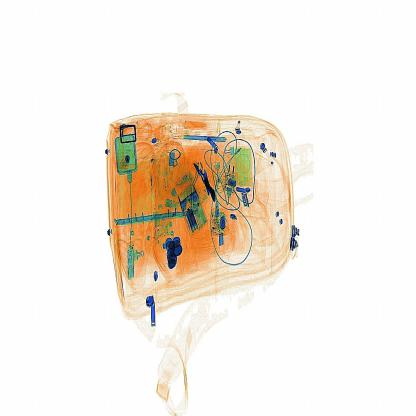wrench: (191, 157, 225, 221)
